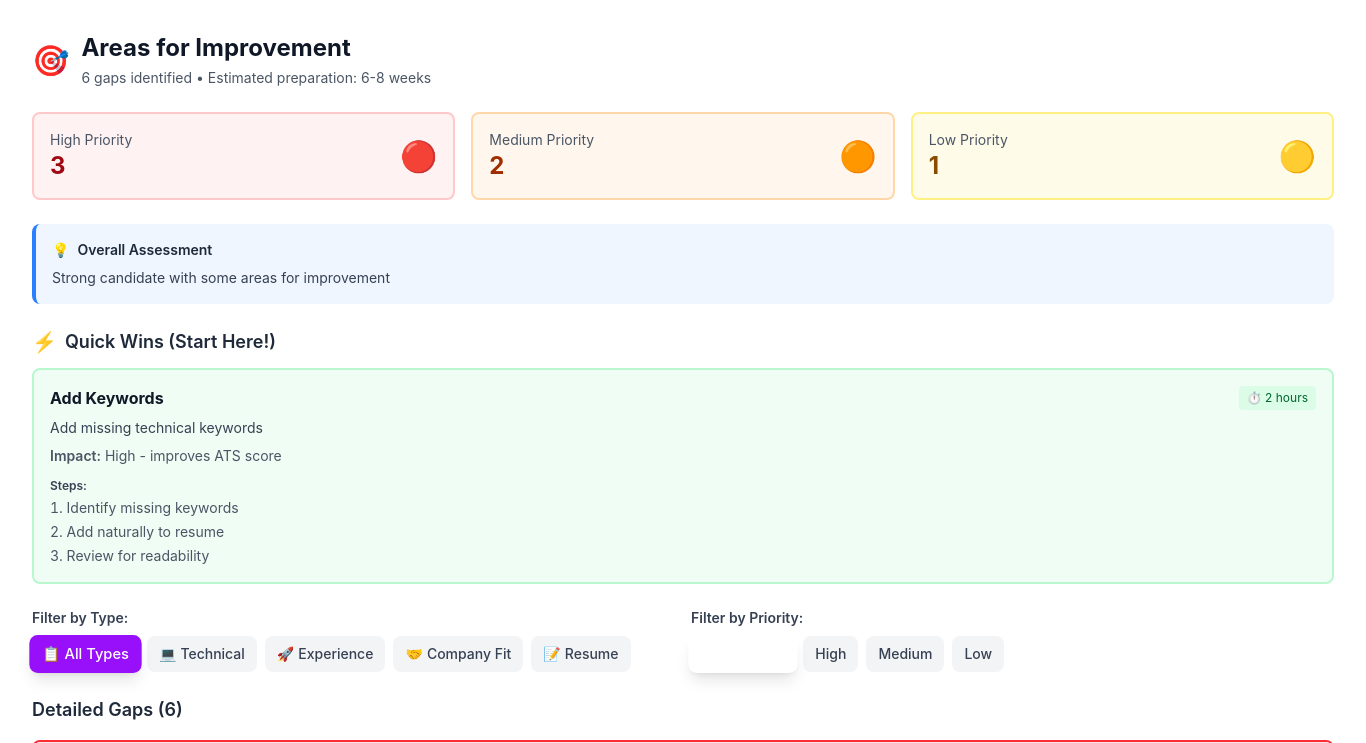
Test: GapsSection › priority filtering › filters to high priority only
Click the button "High".
click(831, 654)  # box left=803, top=636, right=858, bottom=672
(page scrolled)
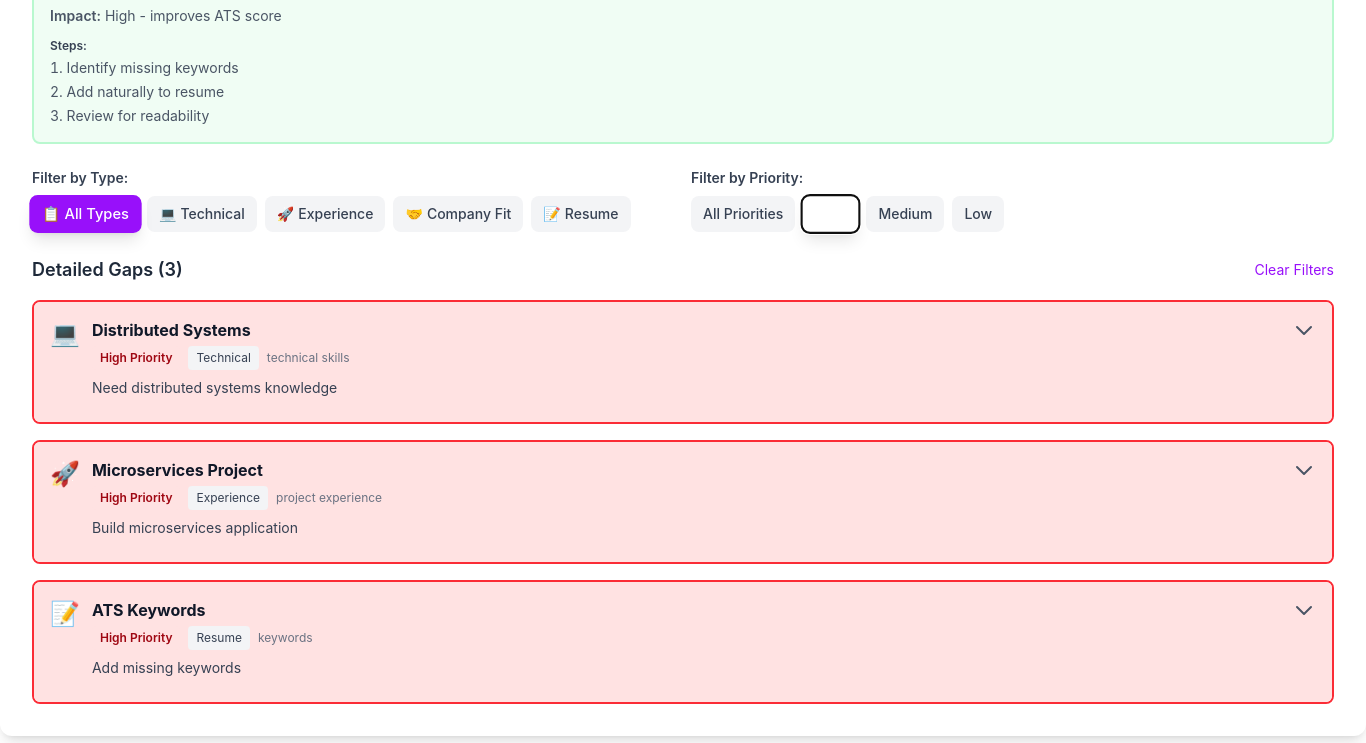
Expected: the heading "Distributed Systems" is shown, left=92, top=320, right=251, bottom=340
Result: the heading "Detailed Gaps (3)" is shown at left=32, top=256, right=183, bottom=284
